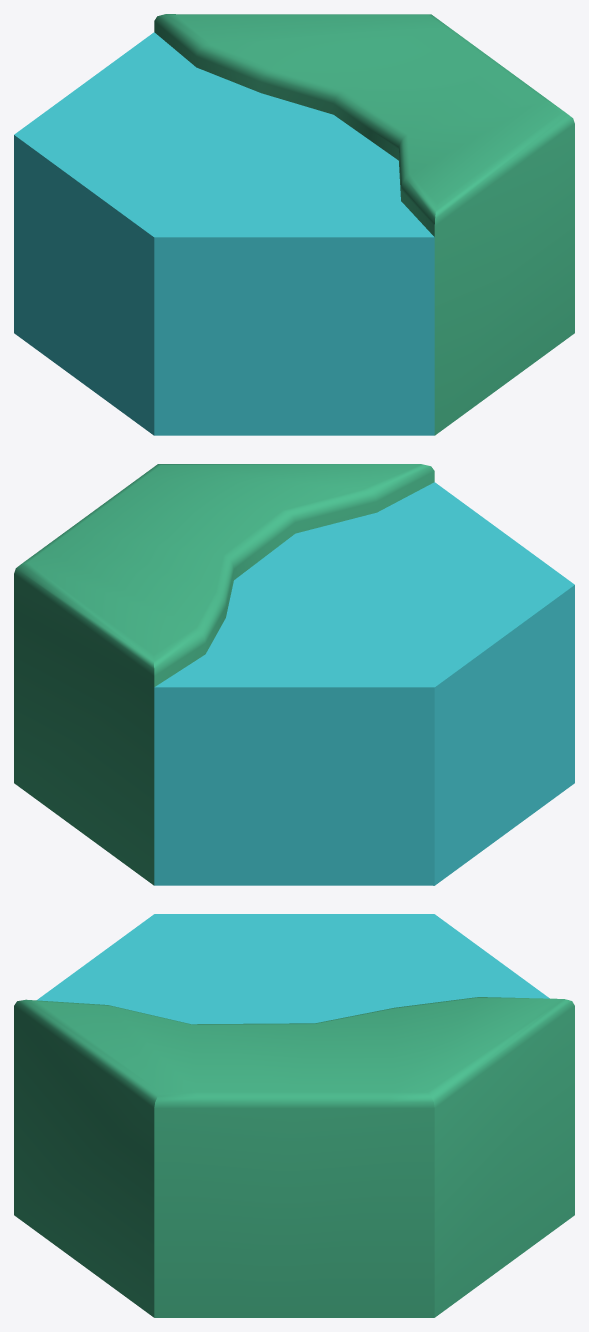
The model's file is kaykit-hex-forest-waterc.glb.
The picture shows the model from 3 angles, top to bottom: view 1: azimuth 30°, elevation 25°; view 2: azimuth 150°, elevation 25°; view 3: azimuth 270°, elevation 25°; orthographic projection.
Parts seen in each view (by area): view 1: hex_forest_waterC; view 2: hex_forest_waterC; view 3: hex_forest_waterC.
Boxes of the visible parts, left/top/right/bottom form: hex_forest_waterC: left=14, top=14, right=574, bottom=435; hex_forest_waterC: left=14, top=464, right=574, bottom=885; hex_forest_waterC: left=14, top=914, right=574, bottom=1317.
Bounding box in the file's own units: 2 × 1 × 2.31.
